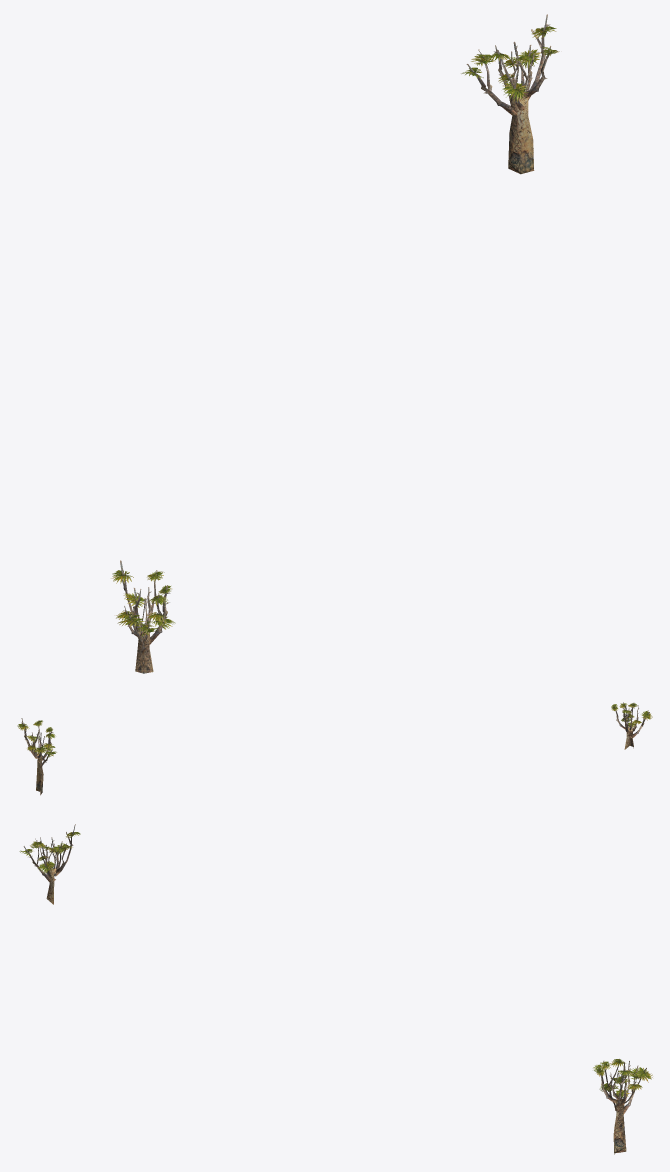
The model's file is S_Tree_Yellow036_A.FBX.
The picture shows the model from 3 angles, top to bottom: view 1: azimuth 30°, elevation 25°; view 2: azimuth 150°, elevation 25°; view 3: azimuth 270°, elevation 25°; orthographic projection. The views are drawn at different scales.
Parts seen in each view (by area): view 1: S_Tree_Yellow036_002, S_Tree_Yellow036_001; view 2: S_Tree_Yellow036_002, S_Tree_Yellow036_001; view 3: S_Tree_Yellow036_002, S_Tree_Yellow036_001.
Part boxes in pixels (x1,y1,x2,y2): S_Tree_Yellow036_002: (461, 14, 559, 174); S_Tree_Yellow036_001: (111, 560, 175, 673); S_Tree_Yellow036_002: (17, 718, 56, 795); S_Tree_Yellow036_001: (611, 702, 652, 749); S_Tree_Yellow036_002: (593, 1059, 652, 1154); S_Tree_Yellow036_001: (19, 824, 80, 904).
Bounding box in the file's own units: 5940 × 1102 × 5467.
